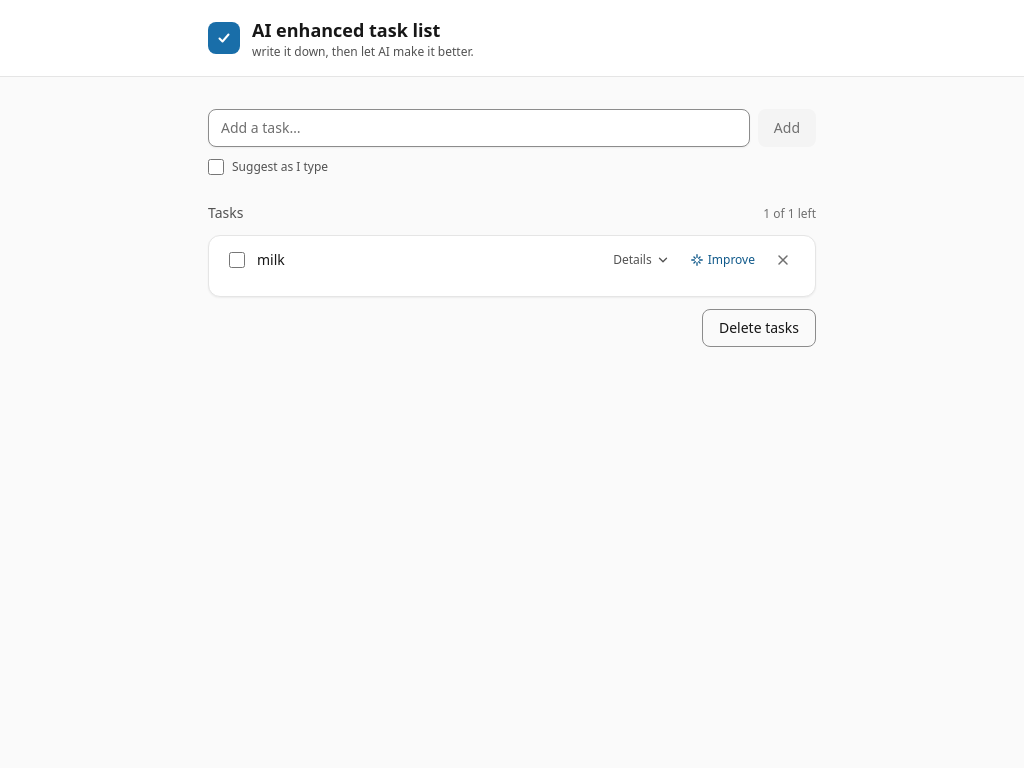
Scenario: App AI suggestions › drops a response that arrives after its task was deleted
The image size is (1024, 768).
Click the button named "Improve \"milk\" with AI" at (722, 260), box [682,244,763,276]
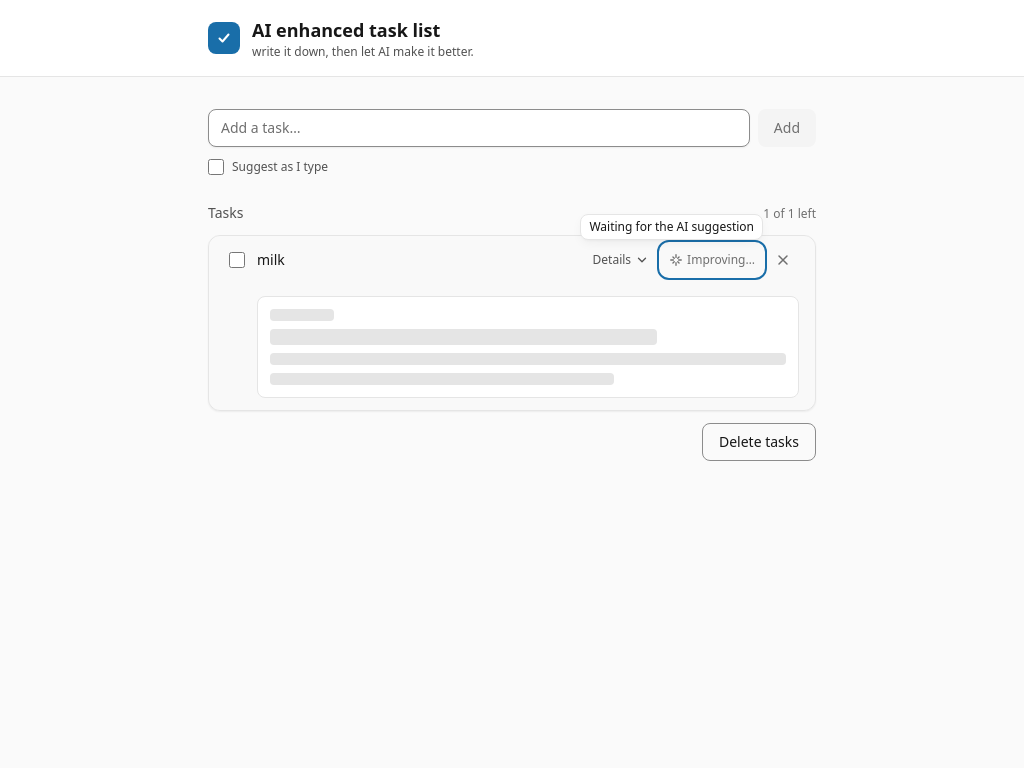
Click the button named "Delete \"milk\"" at (783, 260), box [767,244,799,276]
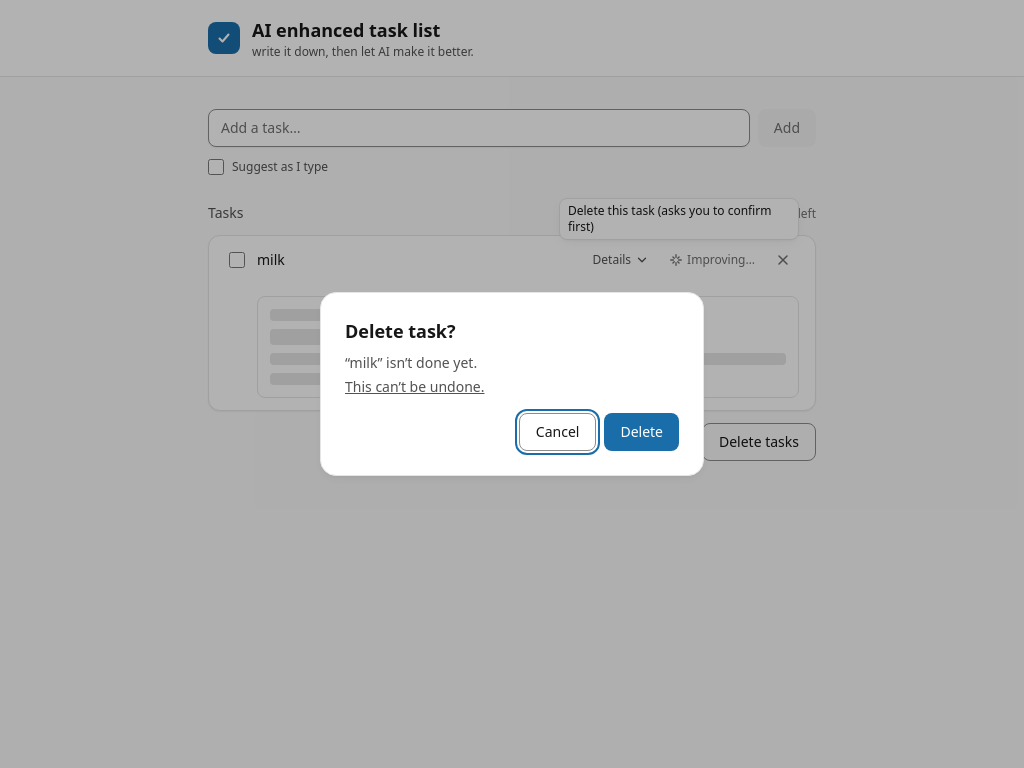
Click the button "Delete" at (642, 432), box [604,413,679,451]
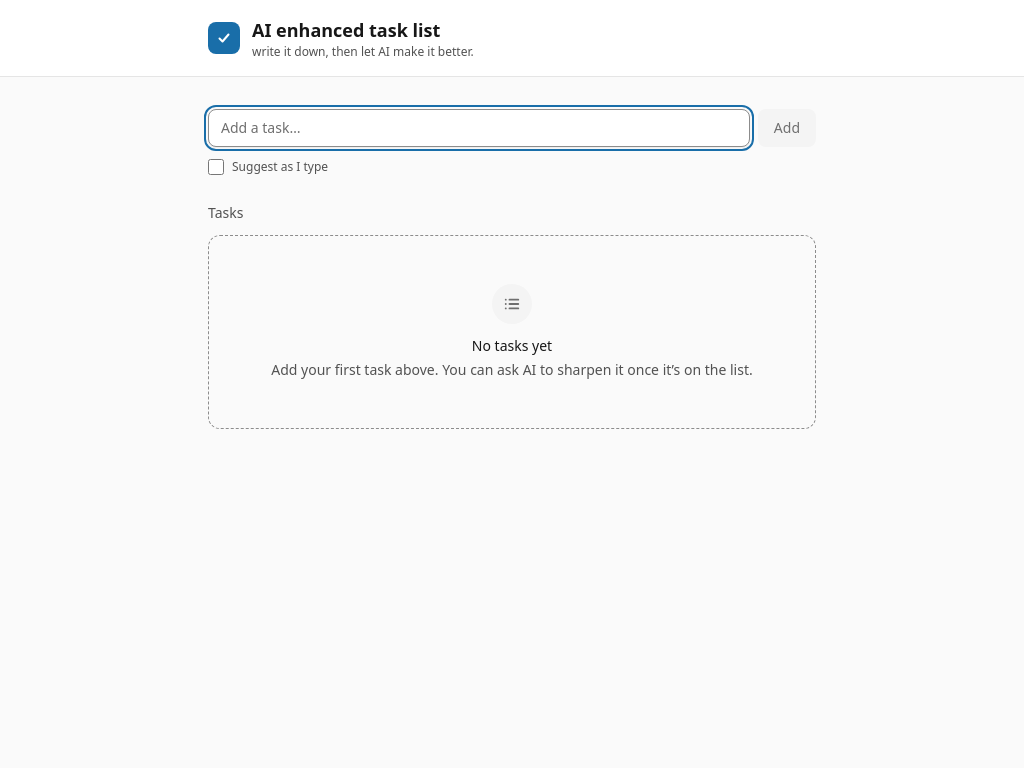
Expected: the text "No tasks yet" is shown, [472,336,552,355]
